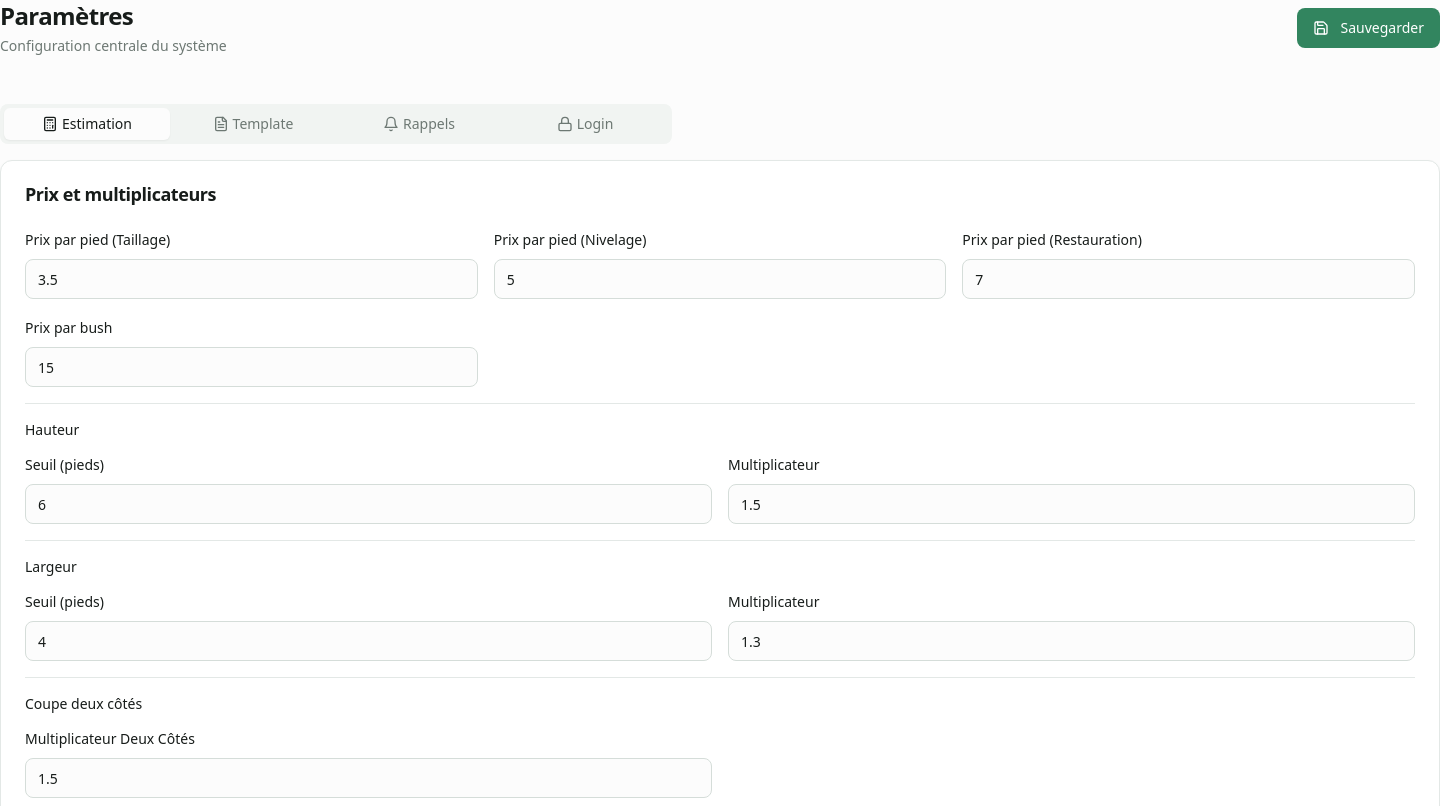
Scenario: Settings — show_taxes toggle › toggle is ON when show_taxes is true
What coordinates should you click on to do the following:
click the tab "Template"
I would click on:
 (253, 124)
Its box is x1=170 y1=108 x2=336 y2=140.
(page scrolled)
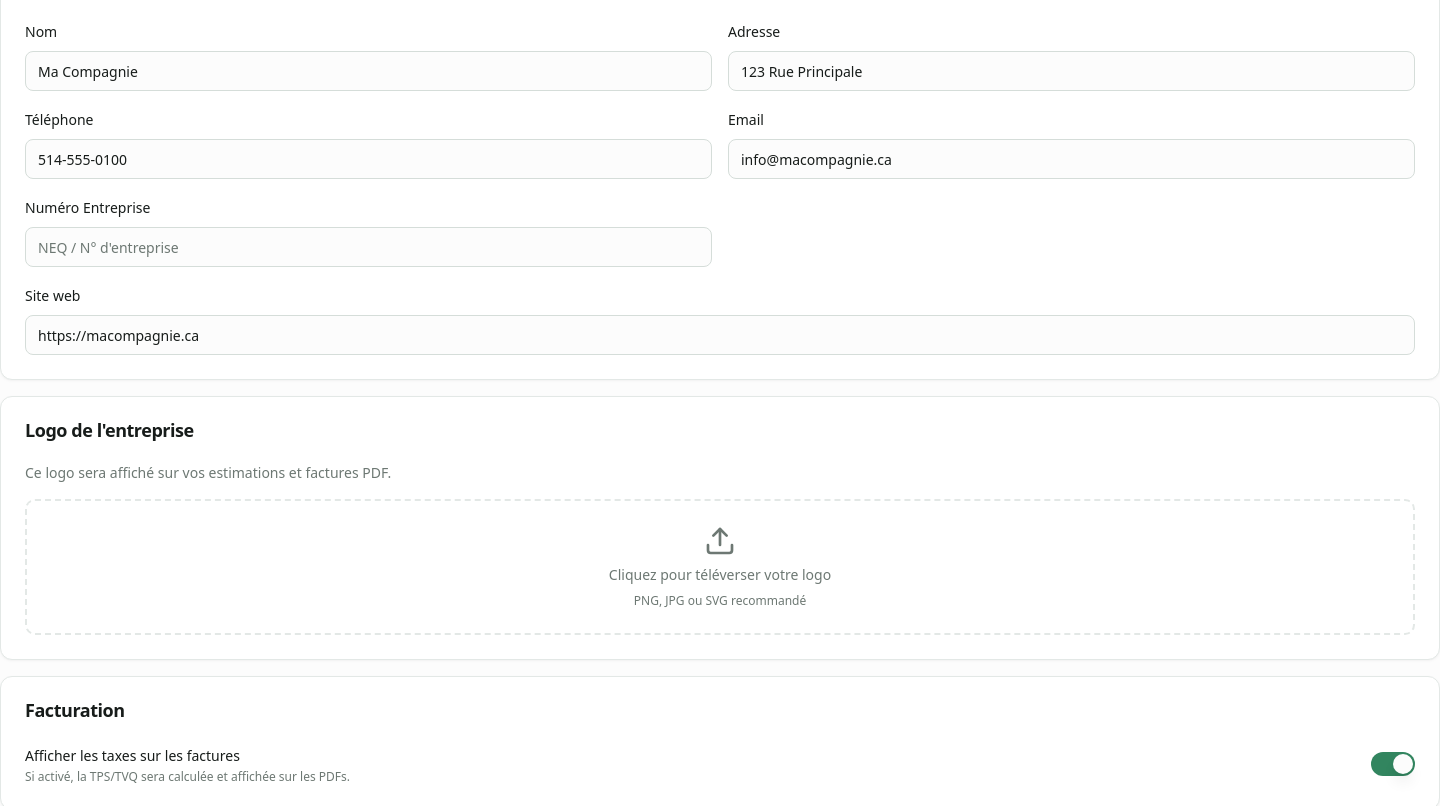
expect the switch is checked: met, box x1=1371 y1=752 x2=1415 y2=776
